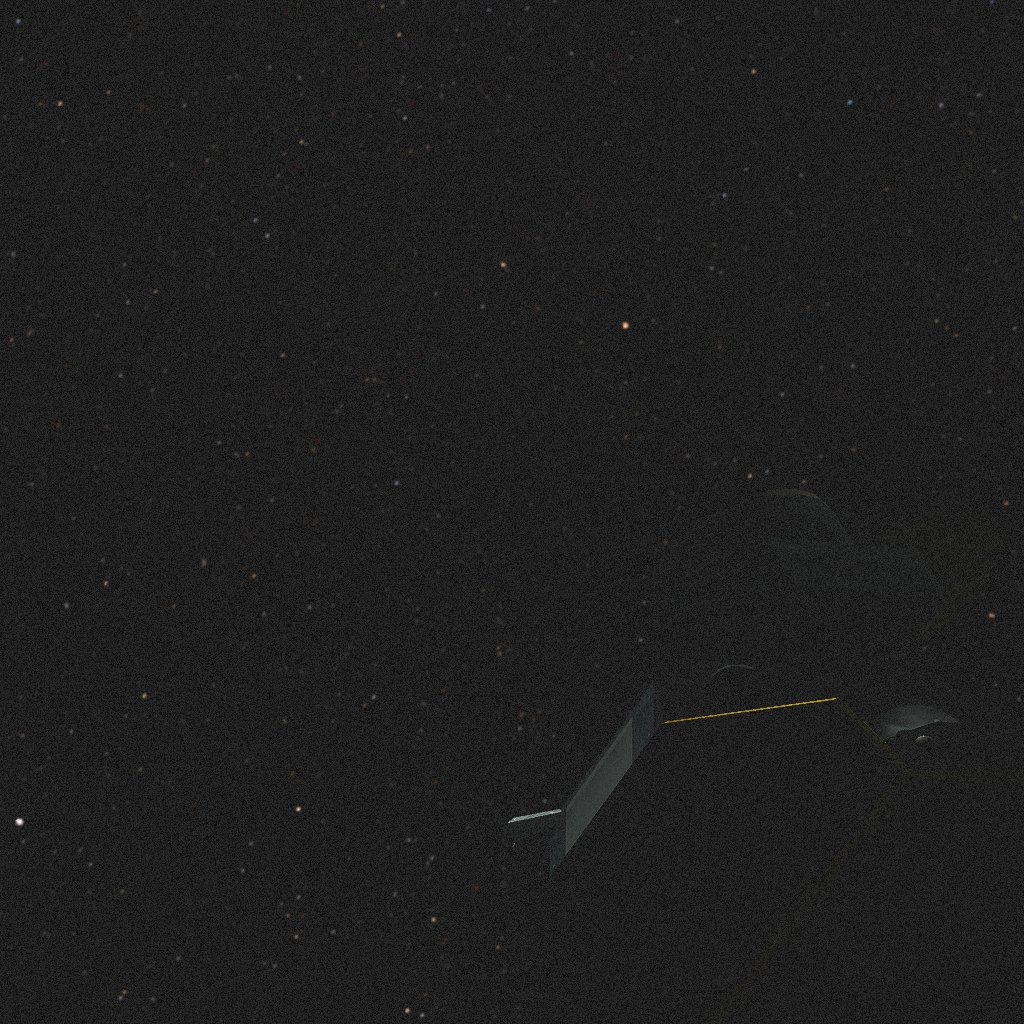cheops: (501, 489, 1024, 1024)
